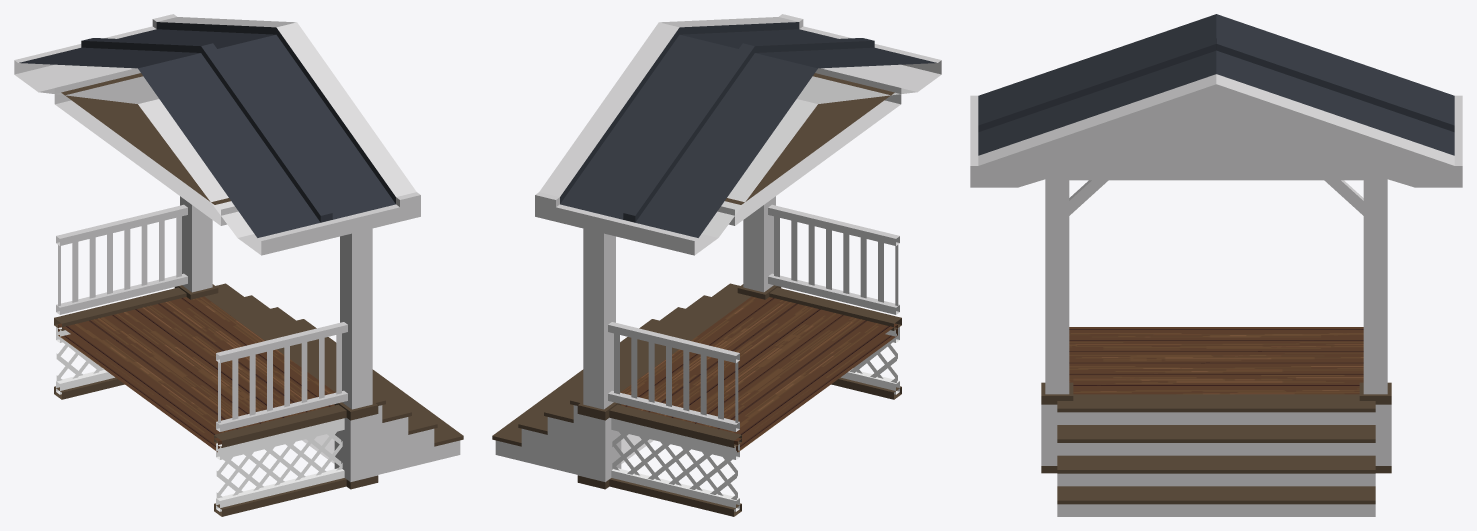
Rendered from SM_veranda_02_short.glb.
The picture shows the model from 3 angles, left to right: view 1: azimuth 30°, elevation 25°; view 2: azimuth 150°, elevation 25°; view 3: azimuth 270°, elevation 25°; orthographic projection.
Visible parts, largest first — view 1: SM_veranda_02_short; view 2: SM_veranda_02_short; view 3: SM_veranda_02_short.
Boxes of the visible parts, x1,y1,x2,y2 form: SM_veranda_02_short: (14,14,463,516); SM_veranda_02_short: (492,14,941,516); SM_veranda_02_short: (970,14,1462,516).
Bounding box in the file's own units: 3.55 × 5.44 × 6.18.
2 materials, 2 textured.
